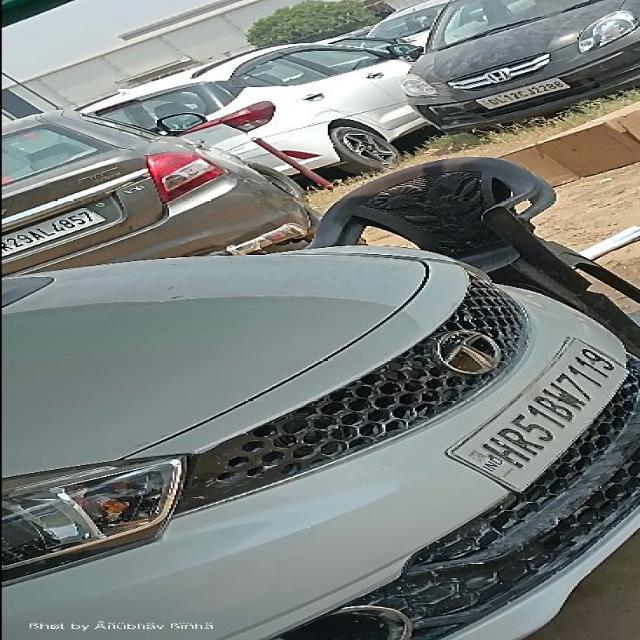license_plate: (443, 336, 629, 492), (0, 206, 106, 256), (474, 77, 570, 110)
